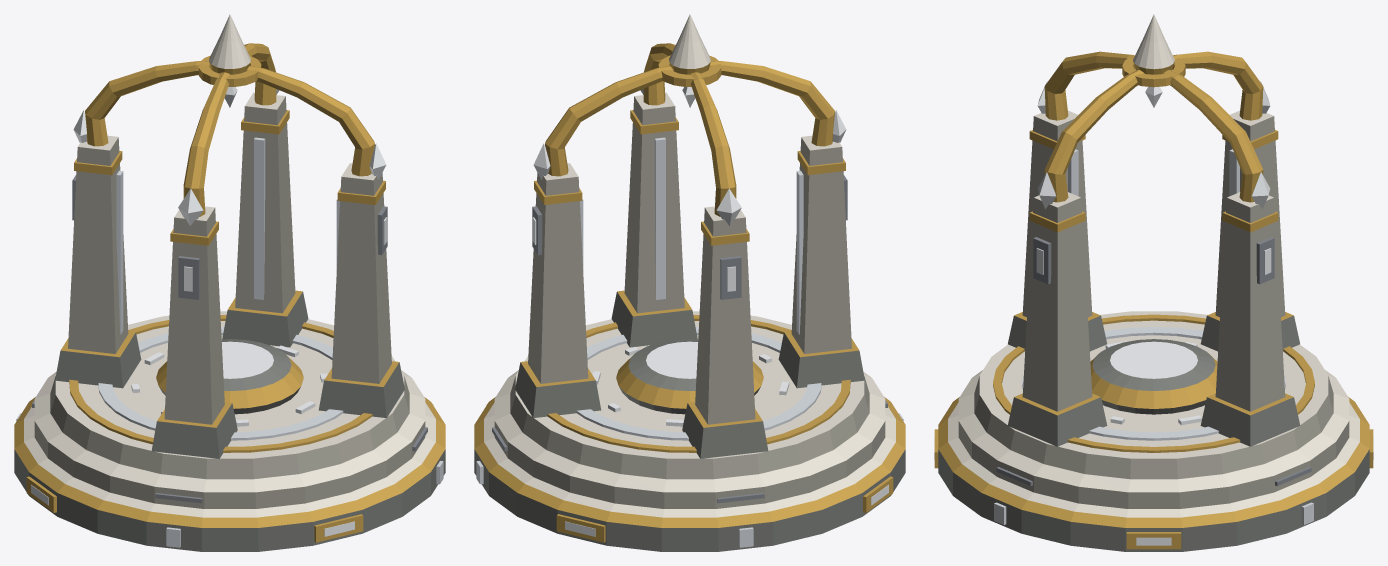
Rendered from TravelBeacon.obj.
3 views of the same model, side by side, from view 1: azimuth 30°, elevation 25°; view 2: azimuth 150°, elevation 25°; view 3: azimuth 270°, elevation 25° (orthographic).
Bounding box in the file's own units: 4.99 × 5.6 × 4.99.
